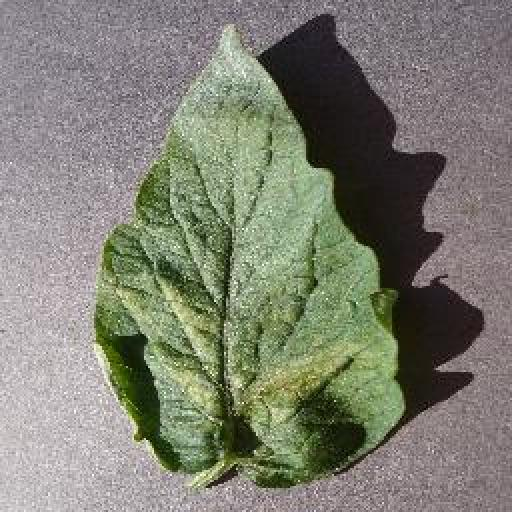disease_tomato: (96, 18, 404, 486)
